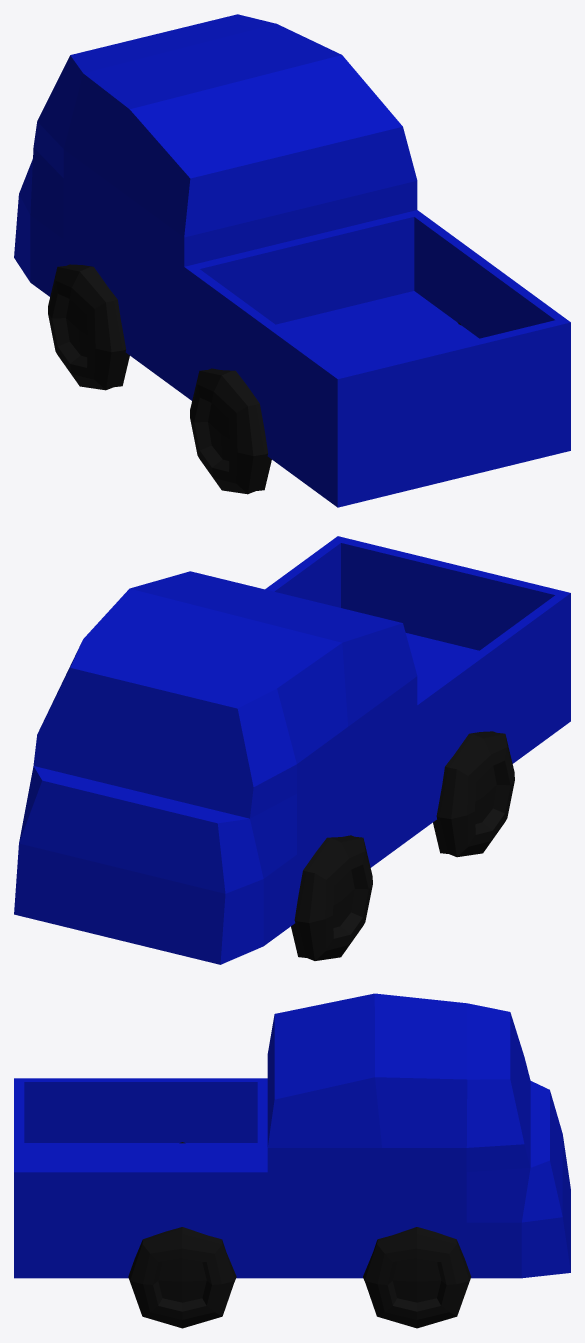
Rendered from car_r.obj.
The picture shows the model from 3 angles, top to bottom: view 1: azimuth 30°, elevation 25°; view 2: azimuth 150°, elevation 25°; view 3: azimuth 270°, elevation 25°; orthographic projection. The views are drawn at different scales.
Visible parts, largest first — view 1: Cube, Cube.001; view 2: Cube, Cube.001; view 3: Cube, Cube.001.
Part boxes in pixels (x1,y1,x2,y2): Cube: (14, 14, 570, 507); Cube.001: (48, 264, 461, 494); Cube: (14, 536, 570, 964); Cube.001: (291, 731, 514, 960); Cube: (14, 993, 570, 1278); Cube.001: (128, 1142, 471, 1328).
Bounding box in the file's own units: 3.6 × 3.6 × 7.48.
